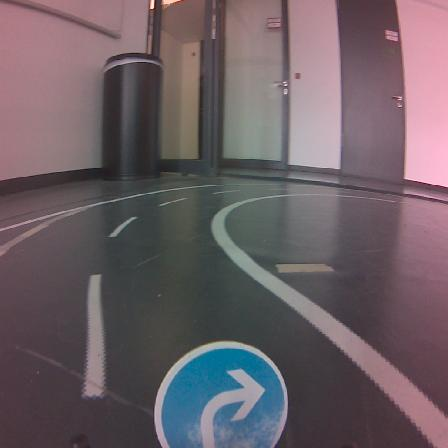RIGHT_TURN: (155, 342, 287, 447)
